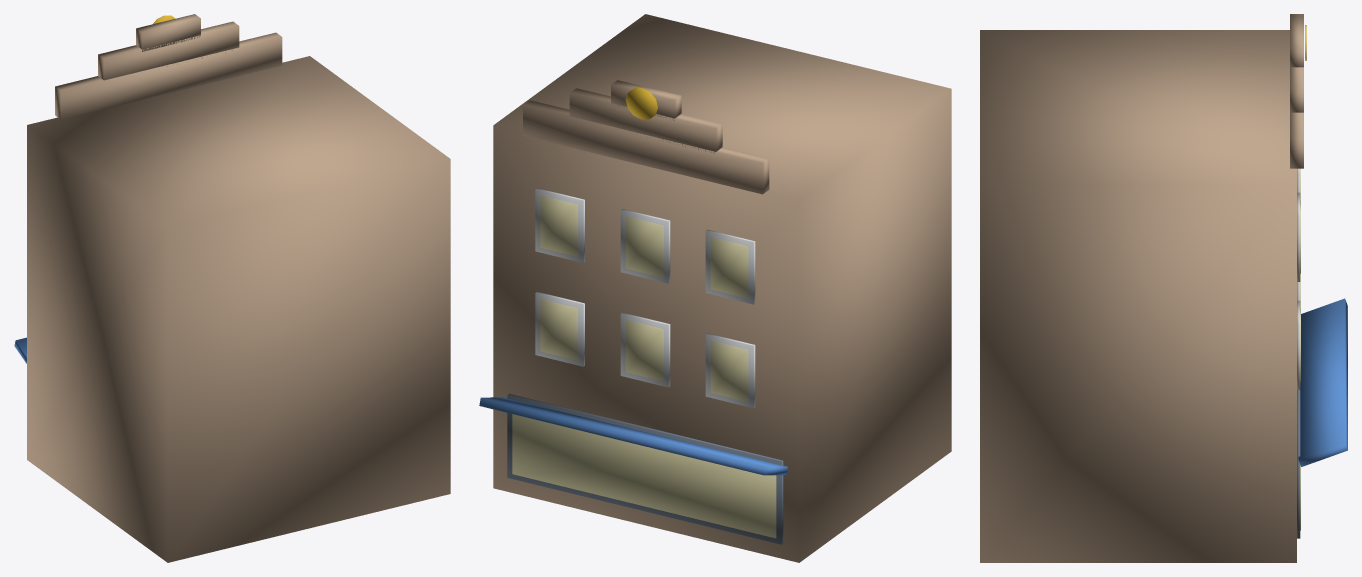
Rendered from commercial-shop-gable.glb.
3 renders of one model, left to right at view 1: azimuth 30°, elevation 25°; view 2: azimuth 150°, elevation 25°; view 3: azimuth 270°, elevation 25°, orthographic. The views are drawn at different scales.
Parts seen in each view (by area): view 1: world; view 2: world; view 3: world.
Part boxes in pixels (box(x1,y1,x2,y2)): world: box(14, 14, 450, 562); world: box(479, 14, 951, 562); world: box(980, 14, 1347, 562).
Size of the model in its own units: 12 by 16.5 by 12.
